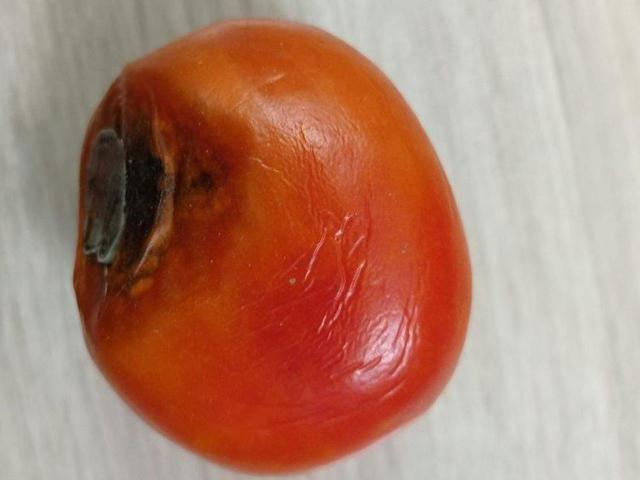defect: (71, 14, 476, 475)
